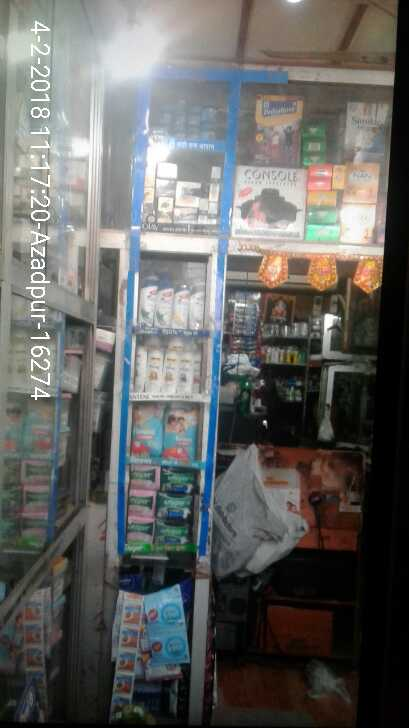vicks: (153, 92, 225, 139)
